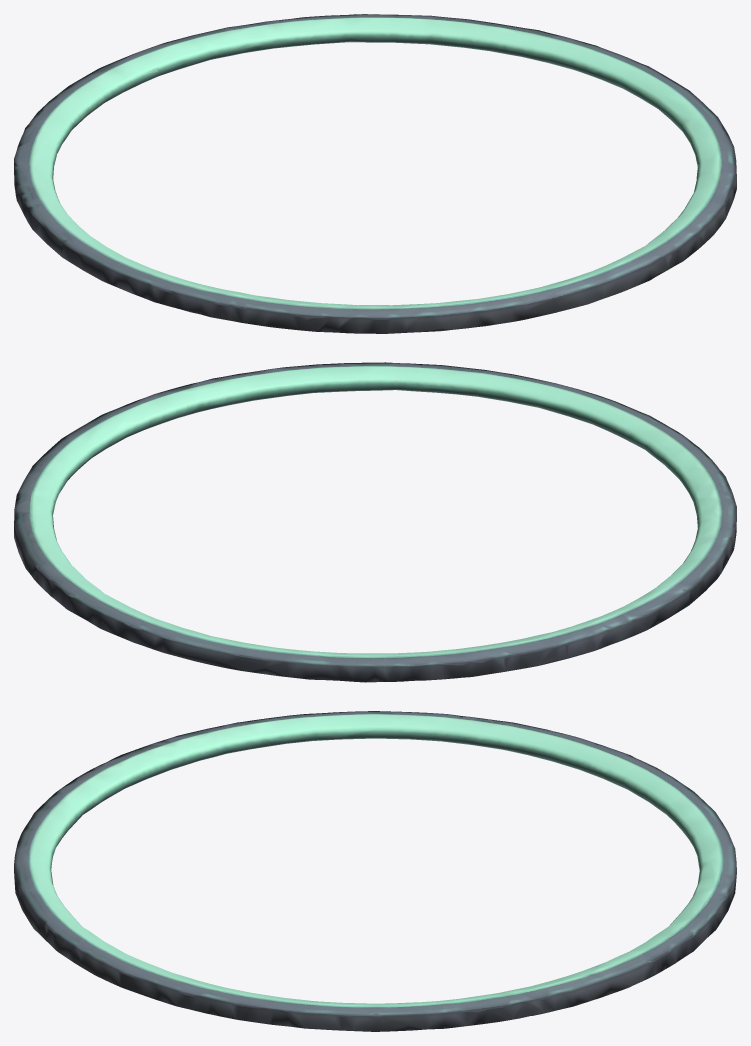
Rendered from ui_selection_ring.glb.
3 views of the same model, one above another, from view 1: azimuth 30°, elevation 25°; view 2: azimuth 150°, elevation 25°; view 3: azimuth 270°, elevation 25° (orthographic).
Parts seen in each view (by area): view 1: tripo_node_9320548d-33e8-447b-86c6-b7126ea96f66; view 2: tripo_node_9320548d-33e8-447b-86c6-b7126ea96f66; view 3: tripo_node_9320548d-33e8-447b-86c6-b7126ea96f66.
Boxes of the visible parts, box(x1,y1,x2,y2) form: tripo_node_9320548d-33e8-447b-86c6-b7126ea96f66: box(14, 14, 736, 333); tripo_node_9320548d-33e8-447b-86c6-b7126ea96f66: box(14, 362, 736, 682); tripo_node_9320548d-33e8-447b-86c6-b7126ea96f66: box(14, 711, 736, 1031).
Bounding box in the file's own units: 1 × 0.0335 × 0.9962.
Materials: 1 (1 with a texture image).
